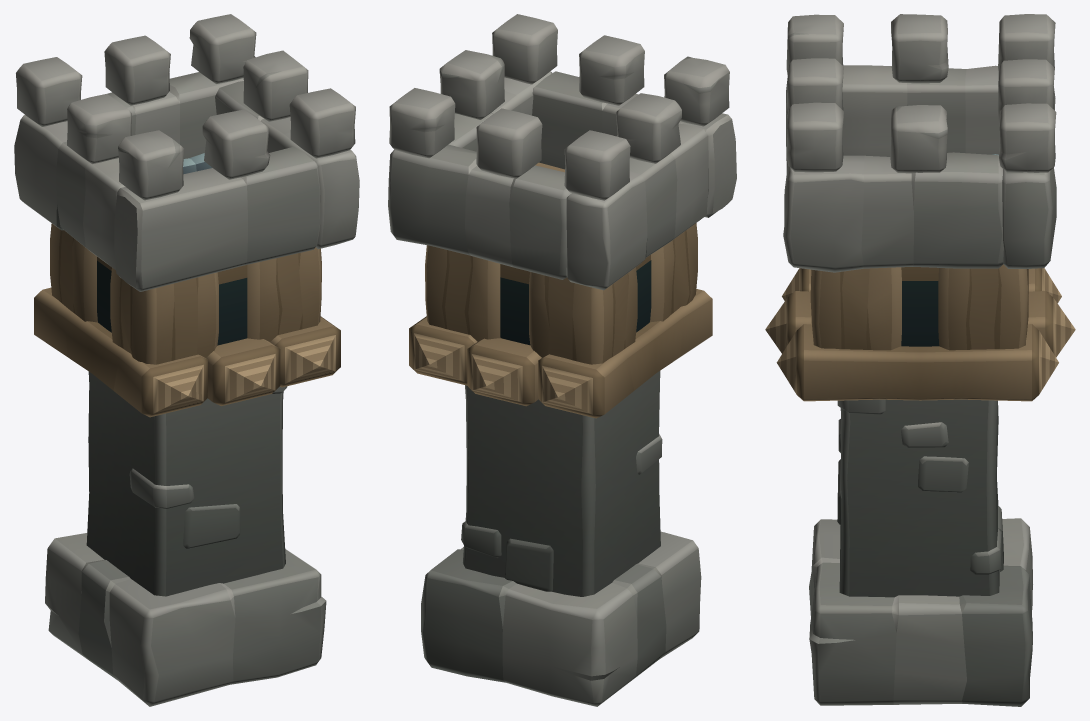
The model's file is tower_human_small_2.fbx.
3 views of the same model, side by side, from view 1: azimuth 30°, elevation 25°; view 2: azimuth 150°, elevation 25°; view 3: azimuth 270°, elevation 25° (orthographic). The views are drawn at different scales.
Visible parts, largest first — view 1: tower_human_small_2; view 2: tower_human_small_2; view 3: tower_human_small_2.
Boxes of the visible parts, box(x1,y1,x2,y2) form: tower_human_small_2: box(14, 14, 359, 706); tower_human_small_2: box(388, 14, 736, 706); tower_human_small_2: box(765, 14, 1075, 706).
Bounding box in the file's own units: 262 × 628 × 295.
